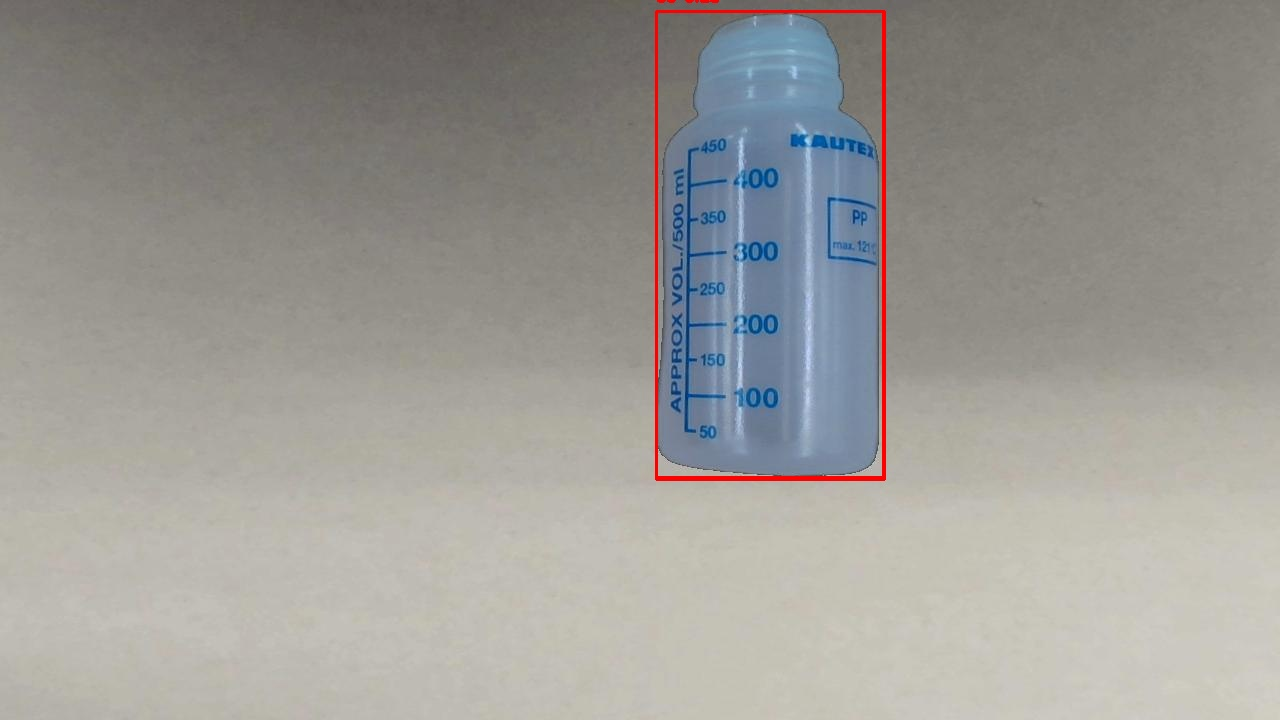cup: (656, 11, 884, 479), (656, 11, 883, 477)
